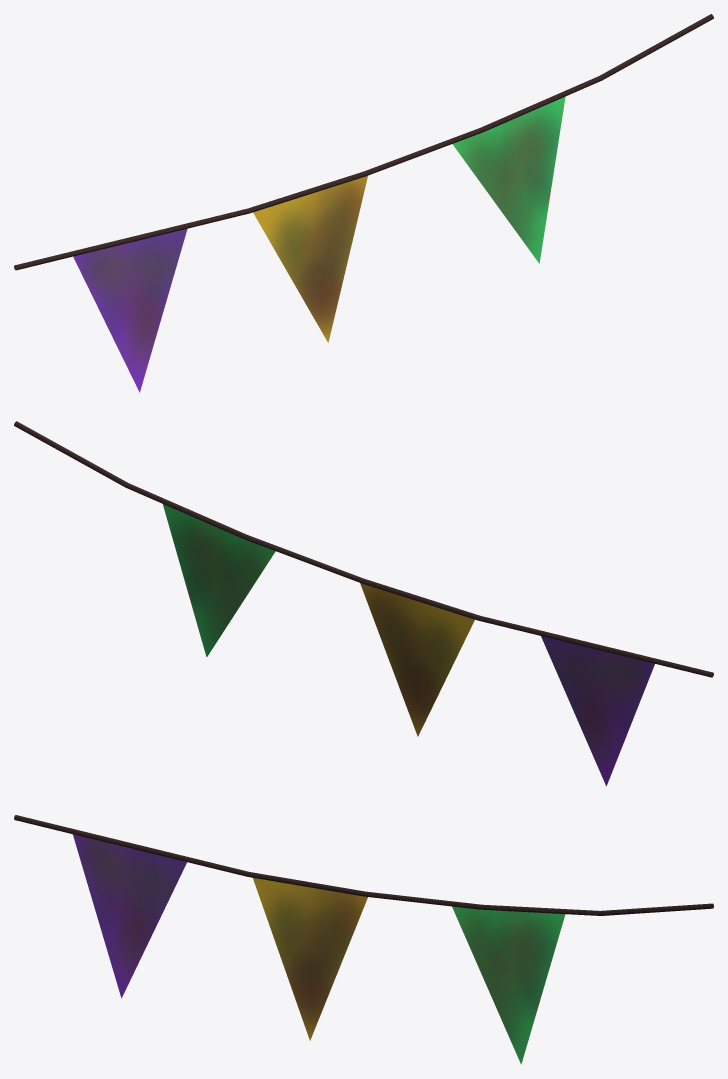
Rendered from Prop_Right_pennats.glb.
3 views of the same model, one above another, from view 1: azimuth 30°, elevation 25°; view 2: azimuth 150°, elevation 25°; view 3: azimuth 330°, elevation 25° (orthographic).
Parts seen in each view (by area): view 1: Plane_R02, Plane_R03, Plane_R01, Rope_Rigth; view 2: Plane_R02, Plane_R01, Plane_R03, Rope_Rigth; view 3: Plane_R02, Plane_R01, Plane_R03, Rope_Rigth.
Part boxes in pixels (<box>): Plane_R02: <box>253,175,367,342</box>; Plane_R03: <box>452,96,565,263</box>; Plane_R01: <box>73,228,187,392</box>; Rope_Rigth: <box>14,14,713,270</box>; Plane_R02: <box>360,583,474,736</box>; Plane_R01: <box>541,636,654,786</box>; Plane_R03: <box>163,504,275,657</box>; Rope_Rigth: <box>14,421,713,677</box>; Plane_R02: <box>253,878,367,1040</box>; Plane_R01: <box>73,834,186,998</box>; Plane_R03: <box>452,906,565,1064</box>; Rope_Rigth: <box>14,815,713,915</box>.
Bounding box in the file's own units: 1.5 × 0.4719 × 0.0391.
Materials: 1 (1 with a texture image).
